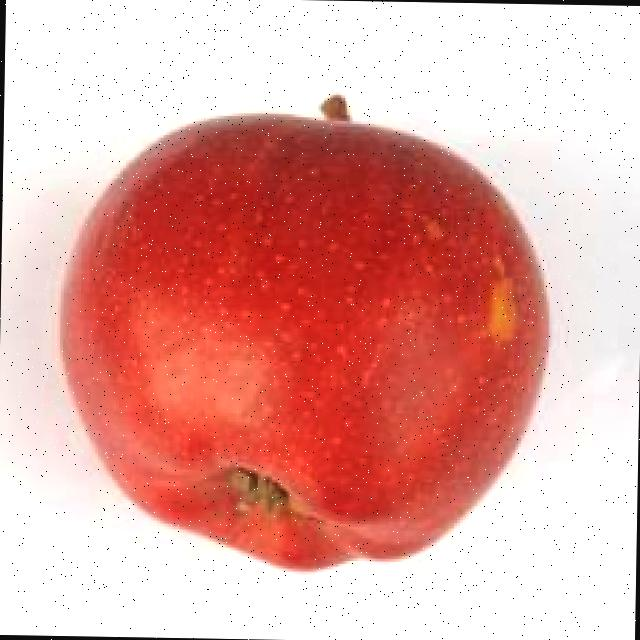apple: (0, 38, 611, 610)
